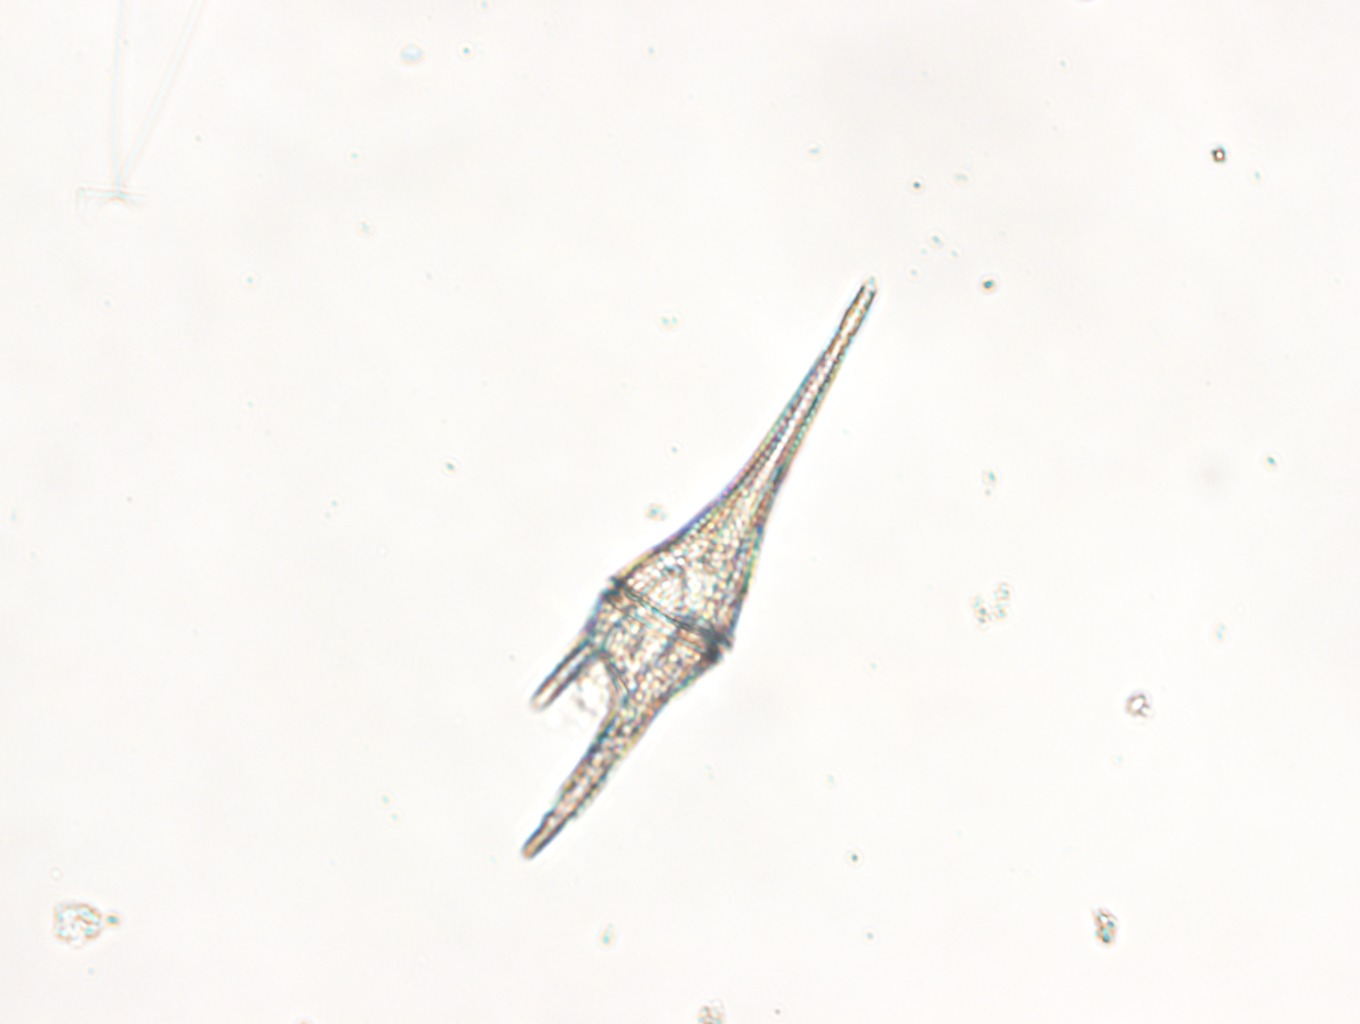ceratium furca: (519, 276, 877, 859)
